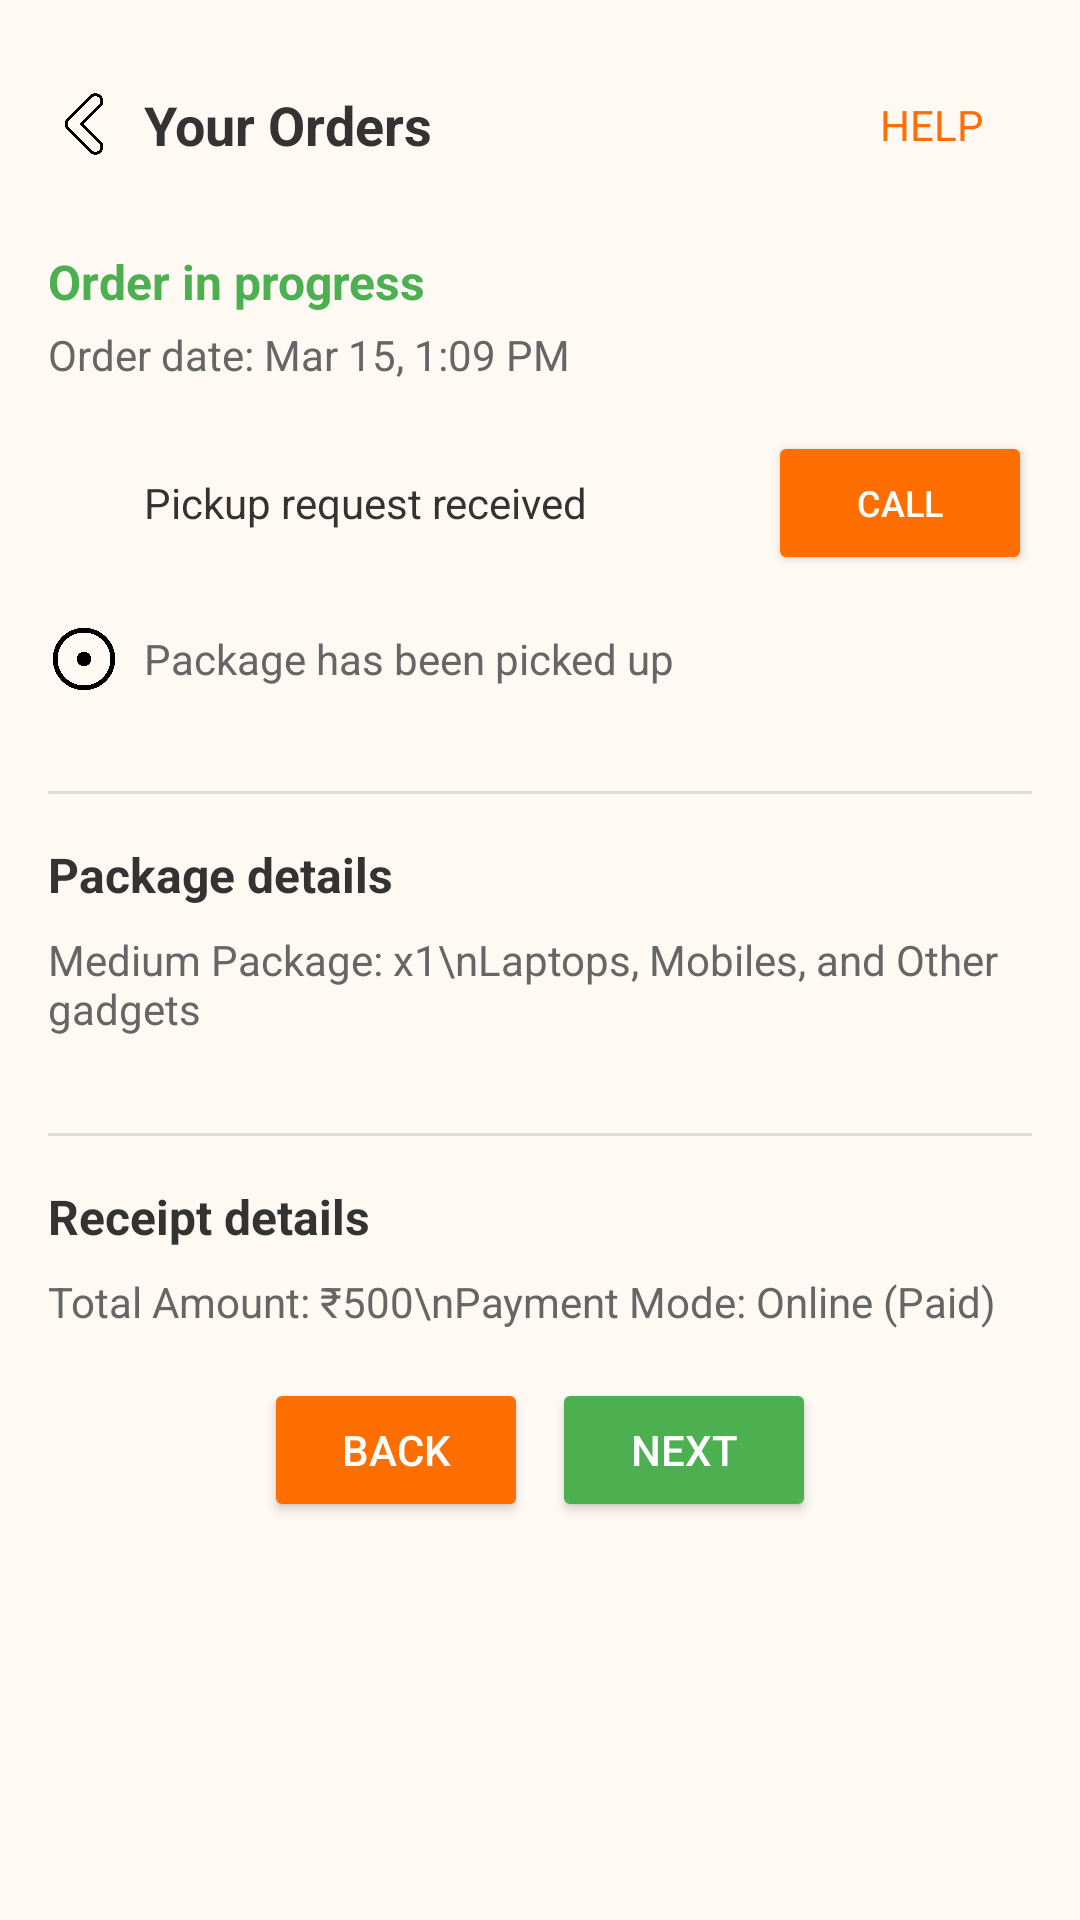

Named icons in this screenshot (1080x1920) and their bounding boxes, box=[x1, y1, x2, y2]:
Back: box=[65, 93, 103, 155]
Timeline dot gray: box=[53, 628, 115, 690]
